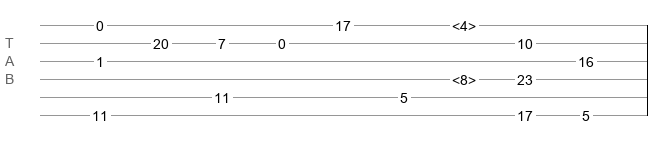0: (96, 18, 104, 28), (278, 36, 286, 46)
1: (96, 54, 104, 64)
10: (517, 36, 533, 46)
11: (92, 108, 108, 118), (214, 90, 230, 100)
16: (578, 54, 594, 64)
17: (335, 18, 351, 28), (517, 108, 533, 118)
20: (153, 36, 169, 46)
23: (517, 72, 533, 82)
5: (400, 90, 408, 100), (582, 108, 590, 118)
7: (218, 36, 226, 46)
harmonic: (452, 18, 476, 28), (452, 72, 476, 82)
